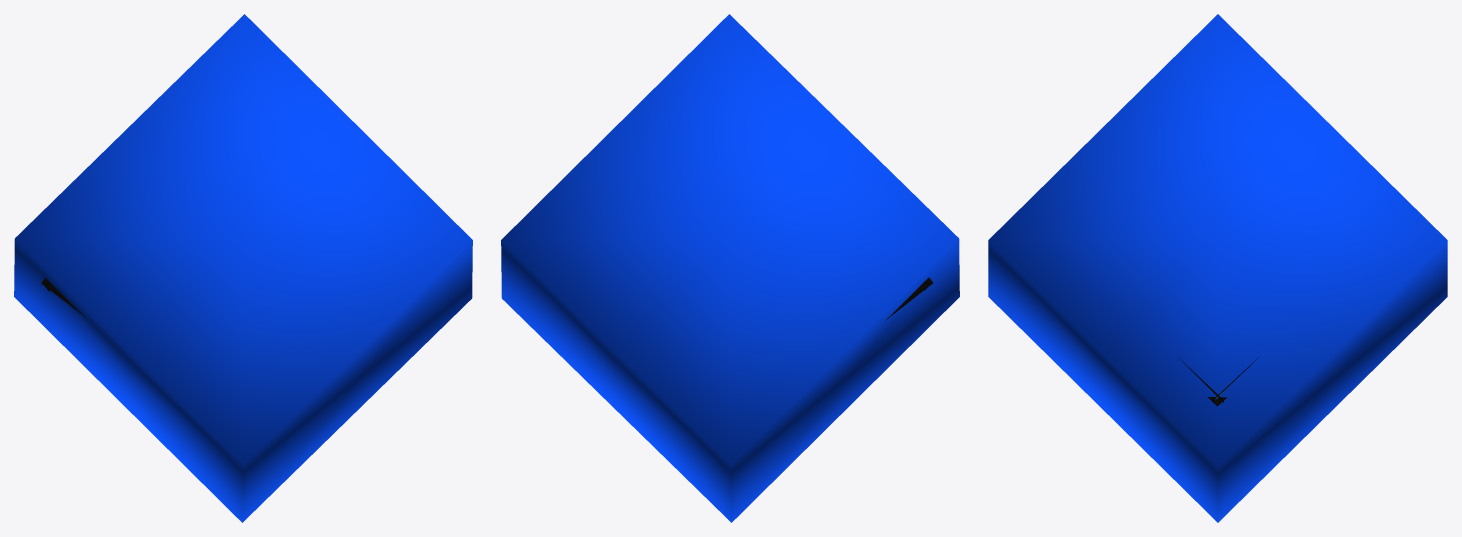
Rendered from PGD_VFX_LuBanSuo_Blue_Low.fbx.
3 renders of one model, left to right at view 1: azimuth 30°, elevation 25°; view 2: azimuth 150°, elevation 25°; view 3: azimuth 270°, elevation 25°, orthographic.
Visible parts, largest first — view 1: LuBanSuo_Ligth; view 2: LuBanSuo_Ligth; view 3: LuBanSuo_Ligth.
Part boxes in pixels (x1=…): LuBanSuo_Ligth: x1=14, y1=14, x2=472, y2=522; LuBanSuo_Ligth: x1=501, y1=14, x2=959, y2=522; LuBanSuo_Ligth: x1=988, y1=14, x2=1447, y2=522.
Size of the model in its own units: 2.28 by 2.42 by 1.98.
3 materials, 2 textured.
